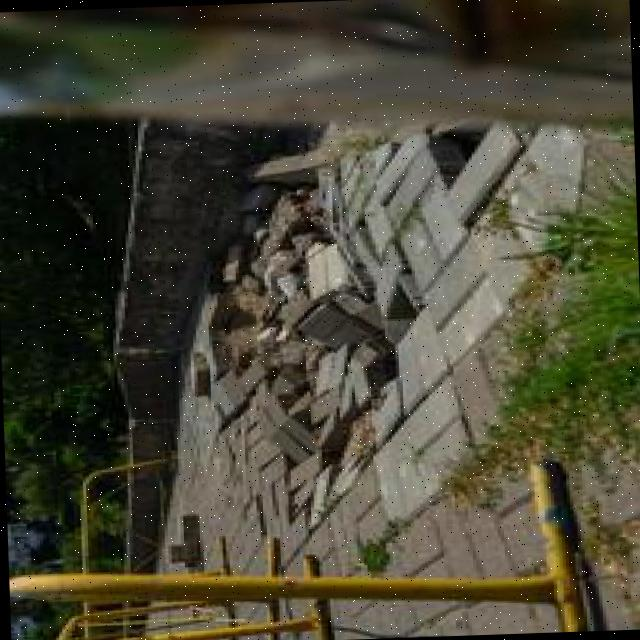road collapse: (120, 91, 490, 503)
